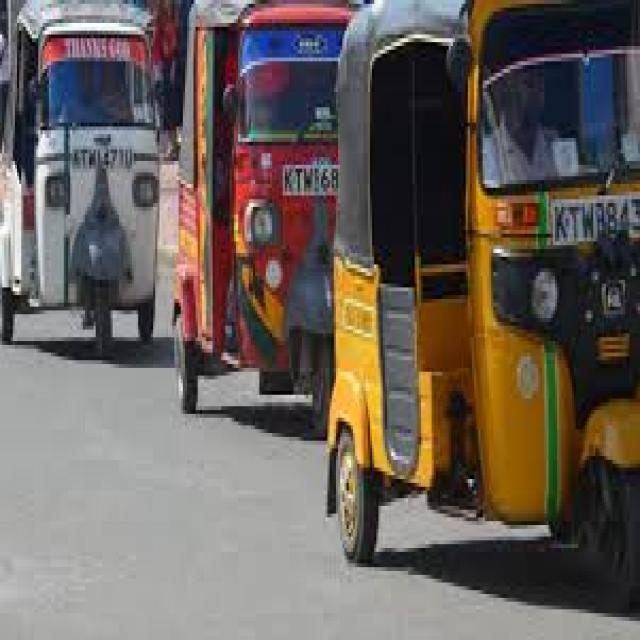tuktuk: (325, 0, 640, 621), (165, 0, 348, 423), (1, 0, 164, 383)
